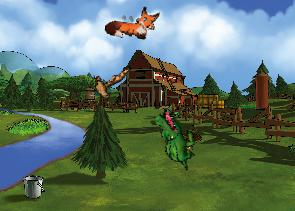crocodile: (141, 105, 209, 172)
eagle: (83, 56, 132, 112)
fox: (104, 1, 160, 43)
